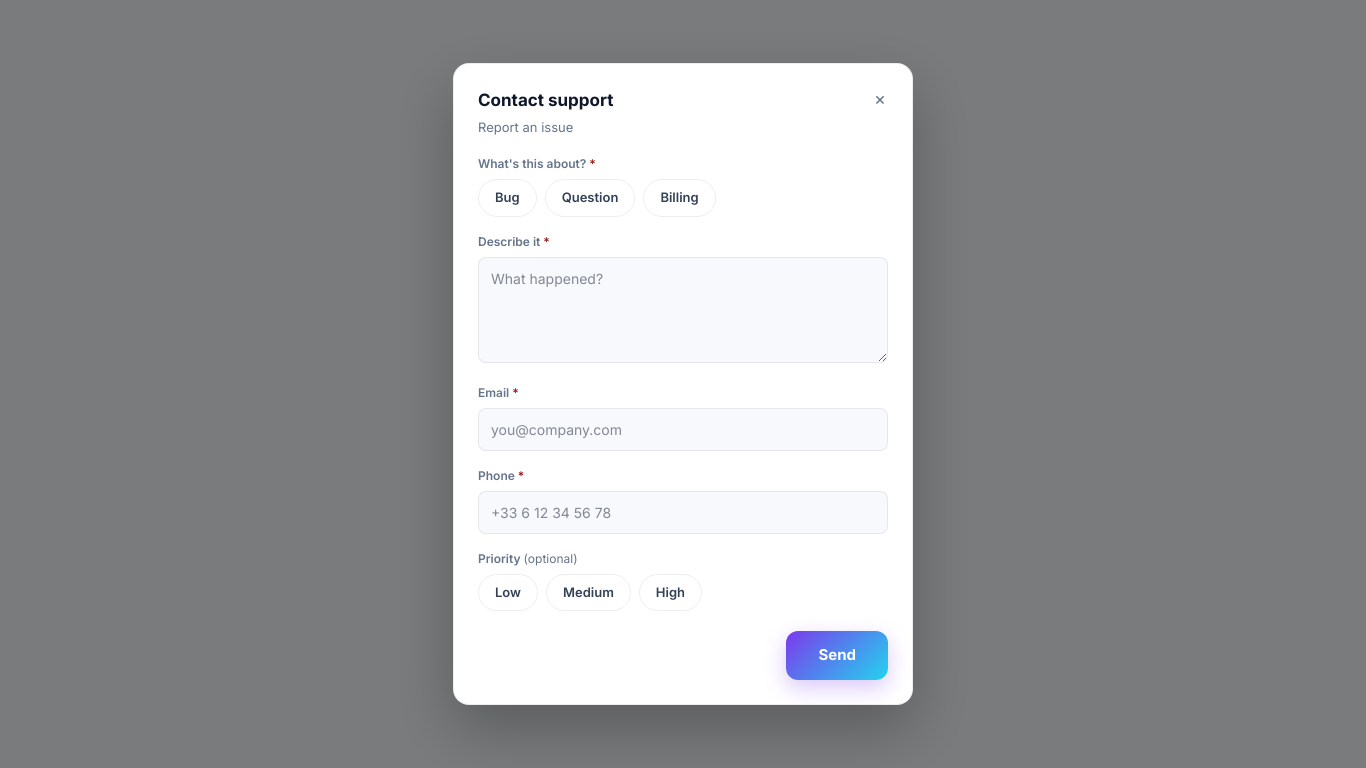
Test case: SupportModal (S2) › blocks submit and shows errors when required fields are missing
Click the button "Send": click(837, 656) [786,631,888,680]
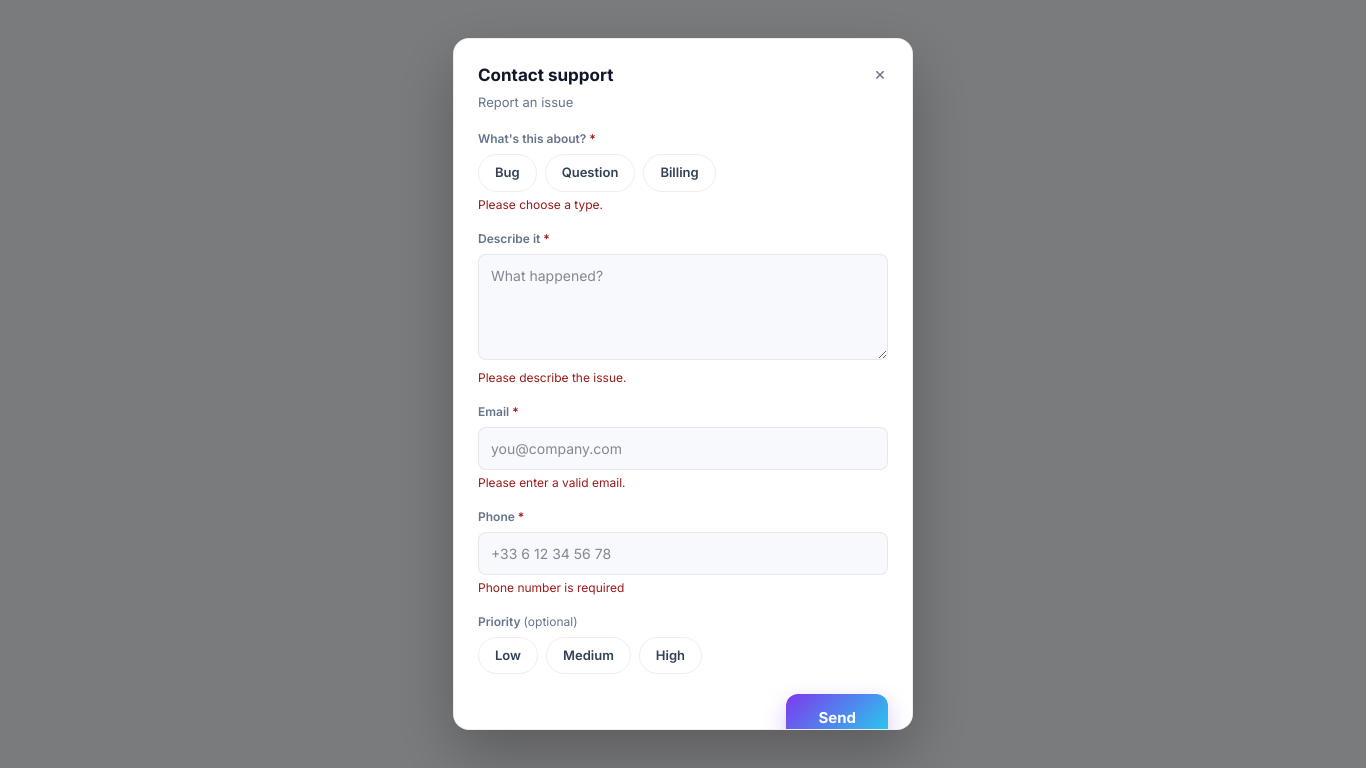
Expected: the text "Please choose a type." is shown, [478,197,603,212]
Expected: the text "Please describe the issue." is shown, [478,370,626,385]
Expected: the text "Please enter a valid email." is shown, [478,475,626,490]
